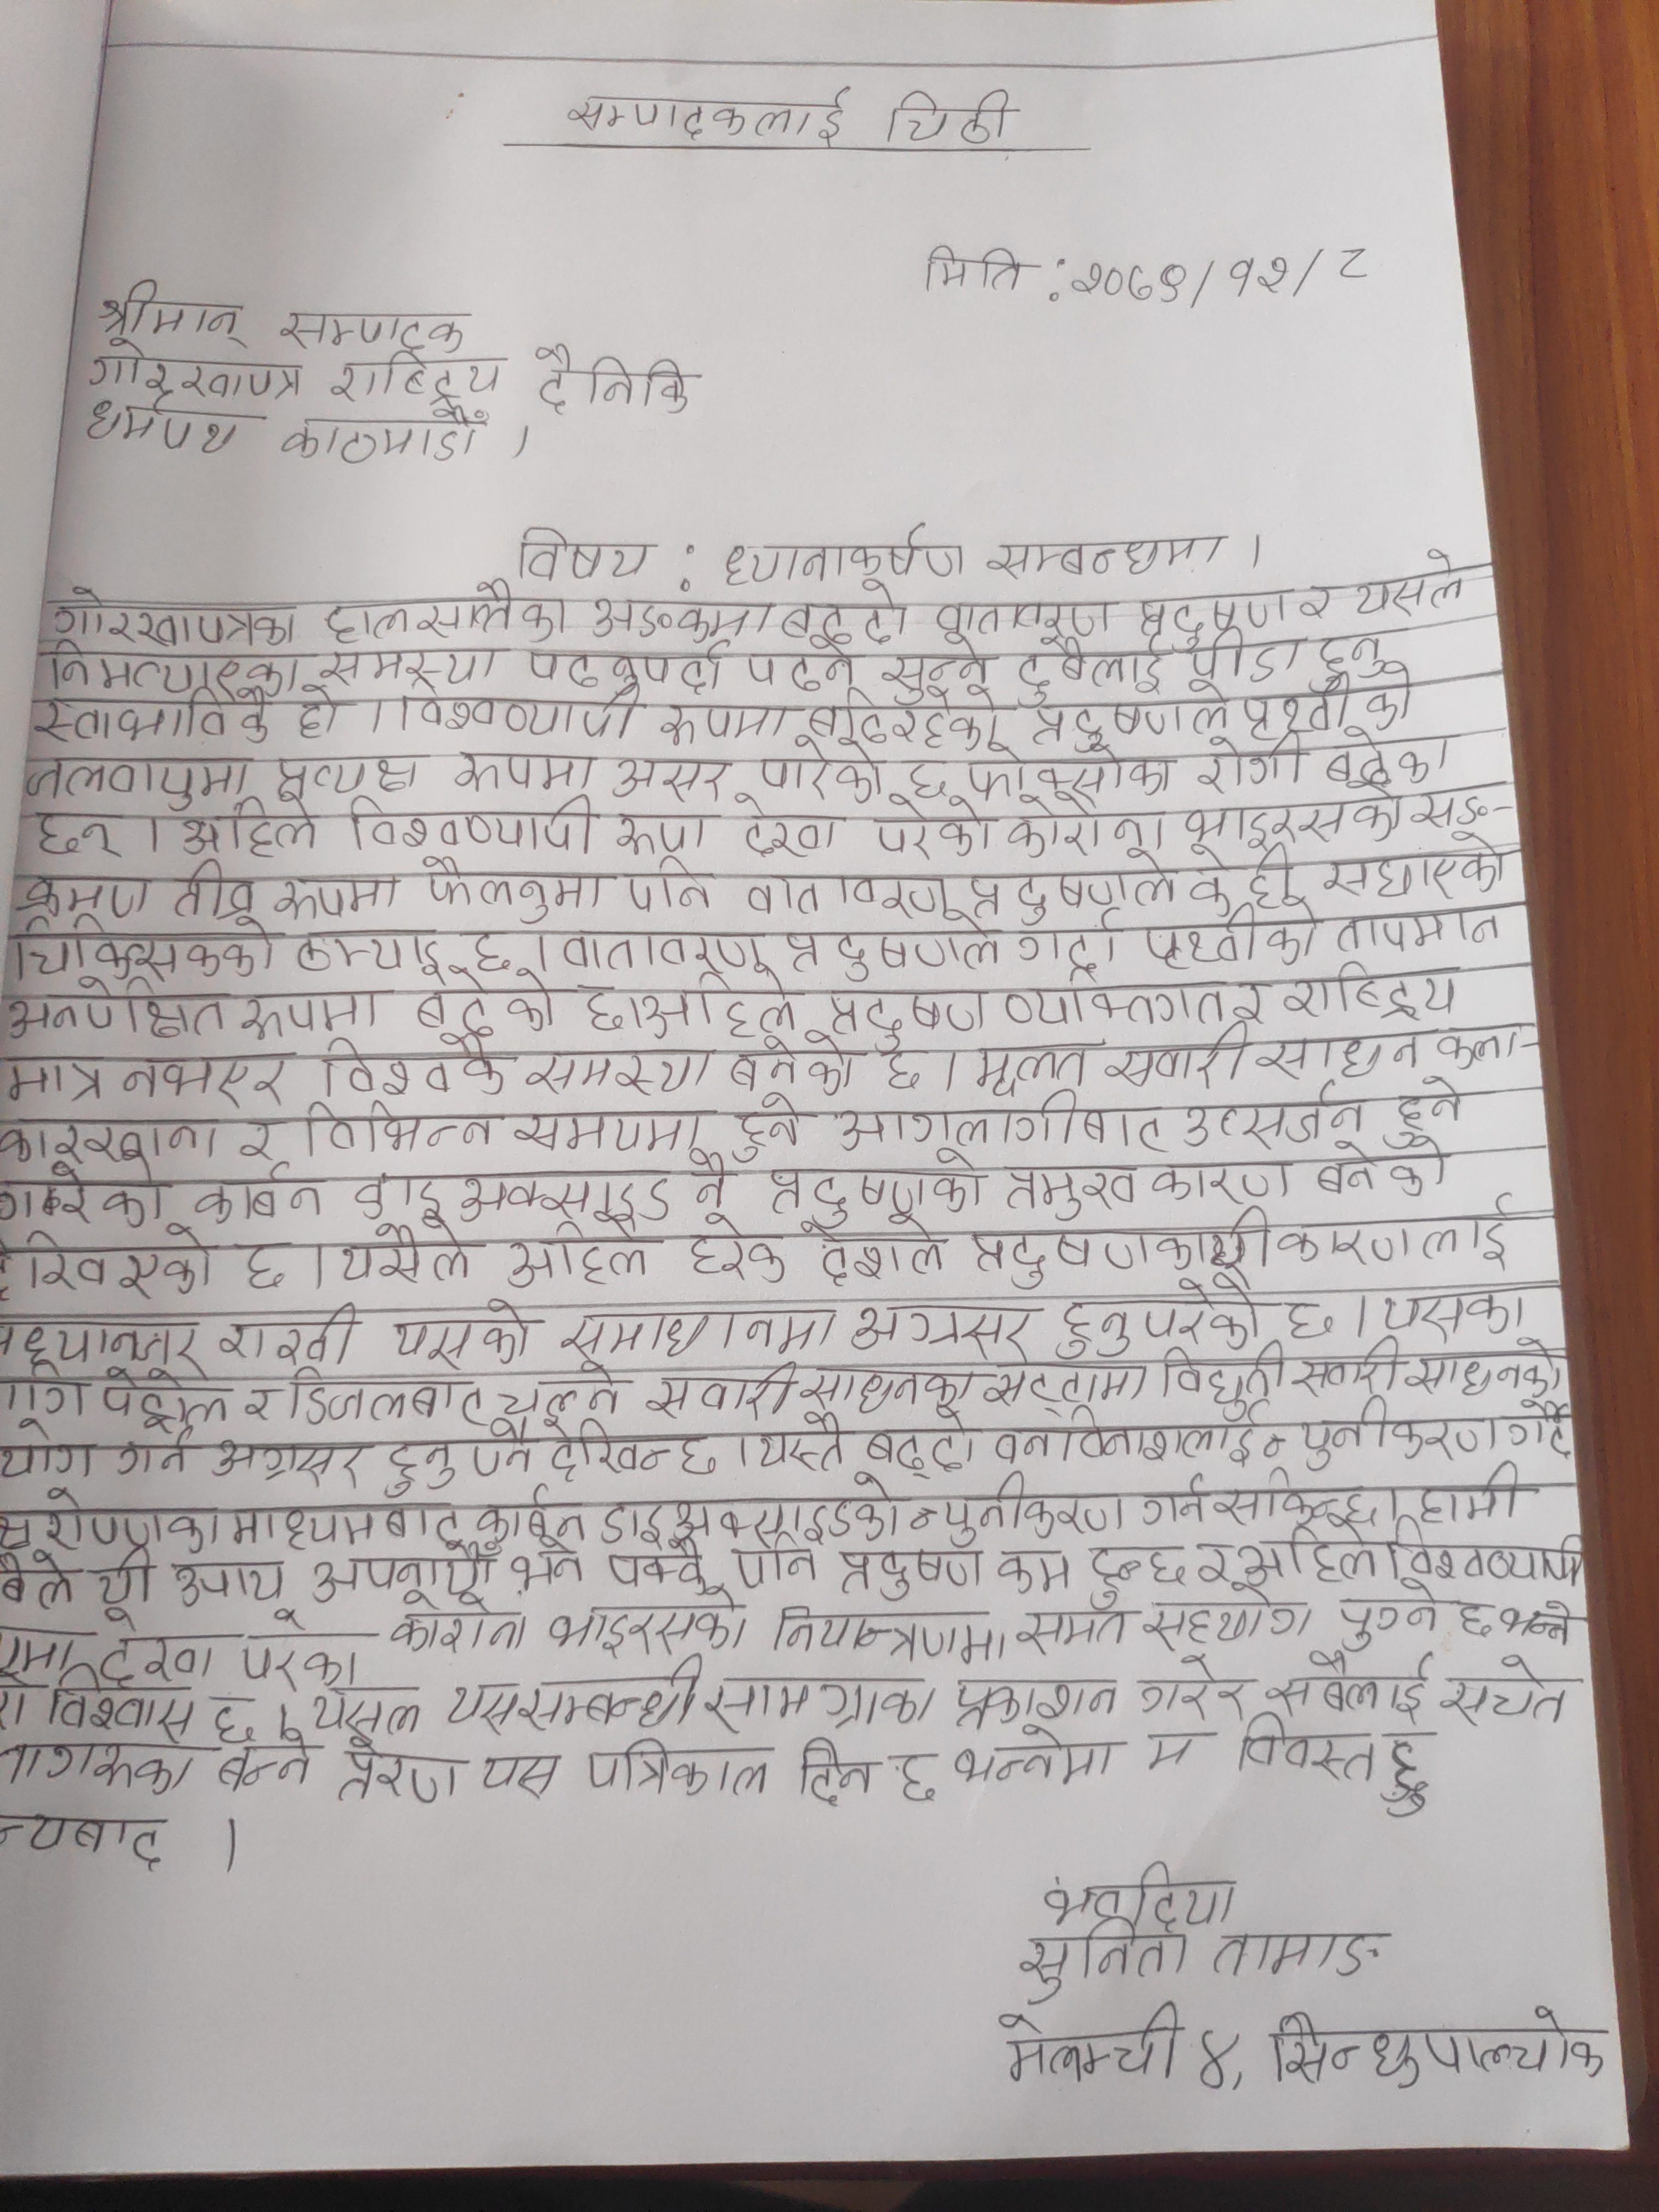text: (1269, 2003, 1612, 2092), (965, 1209, 1277, 1284), (1098, 1021, 1424, 1089), (1274, 1193, 1530, 1275), (448, 1656, 702, 1737), (599, 1475, 904, 1541), (835, 1090, 1164, 1151), (568, 82, 852, 152), (16, 913, 288, 979), (995, 1404, 1267, 1470), (1072, 244, 1373, 301), (769, 1597, 1009, 1669), (1178, 784, 1408, 857), (350, 1169, 678, 1219), (343, 794, 603, 857), (1293, 1393, 1500, 1472), (967, 852, 1183, 927), (906, 1472, 1131, 1543), (723, 521, 965, 587), (558, 1306, 836, 1364), (324, 582, 568, 646), (992, 2005, 1183, 2087), (1054, 1278, 1265, 1352), (52, 585, 301, 646), (765, 1148, 983, 1217), (3, 977, 237, 1042), (16, 1230, 221, 1303), (396, 679, 638, 740), (2, 1489, 223, 1555), (706, 1669, 938, 1731), (1014, 1921, 1190, 2003), (26, 749, 249, 813), (221, 1493, 465, 1550), (317, 1028, 516, 1097), (422, 852, 613, 923), (1002, 970, 1232, 1029), (31, 690, 272, 745), (580, 1737, 777, 1804), (91, 341, 303, 404), (1323, 833, 1518, 900), (1147, 900, 1331, 972), (1042, 1862, 1244, 1926), (45, 641, 301, 691), (528, 343, 704, 416), (298, 1092, 507, 1153), (1183, 1082, 1377, 1146), (288, 1366, 486, 1428), (1140, 1585, 1321, 1653), (0, 1160, 176, 1228), (0, 1808, 176, 1876), (0, 1115, 221, 1169), (985, 531, 1225, 580), (746, 862, 950, 920), (847, 1301, 1033, 1364), (638, 972, 809, 1040), (502, 1216, 660, 1289), (1284, 960, 1469, 1022), (540, 1416, 725, 1479), (519, 641, 732, 695), (781, 928, 1006, 979), (1244, 667, 1420, 732), (802, 1214, 955, 1287), (967, 742, 1175, 796), (545, 1604, 758, 1656), (281, 409, 491, 462), (951, 1726, 1122, 1791), (803, 697, 1006, 751), (1014, 639, 1182, 704), (389, 1299, 547, 1367), (115, 1050, 296, 1109), (1436, 1651, 1575, 1728), (0, 1315, 202, 1367), (1032, 685, 1227, 738), (1237, 1512, 1373, 1588), (207, 1432, 378, 1493), (824, 988, 990, 1050), (99, 1608, 232, 1686), (0, 1743, 204, 1794), (1263, 1658, 1436, 1717), (1234, 1717, 1380, 1787), (298, 921, 450, 988), (1004, 792, 1173, 852), (277, 301, 474, 352), (390, 1588, 537, 1656), (413, 972, 563, 1038), (87, 401, 270, 455), (1391, 1531, 1584, 1581), (1155, 1343, 1288, 1416), (99, 279, 249, 343), (589, 590, 779, 641), (1211, 1928, 1394, 1980), (340, 1217, 479, 1285), (98, 1360, 237, 1428), (523, 1047, 716, 1096), (981, 1355, 1150, 1411), (179, 794, 321, 860), (239, 1613, 369, 1684), (331, 1737, 462, 1808), (305, 1548, 500, 1595), (218, 1308, 368, 1369), (1337, 902, 1509, 954), (514, 1106, 706, 1153), (40, 1683, 199, 1738), (1352, 547, 1473, 620), (951, 1677, 1119, 1730), (1215, 1477, 1387, 1527), (836, 1543, 988, 1601), (728, 1035, 863, 1099), (859, 1407, 983, 1477), (240, 979, 390, 1036), (1314, 1136, 1450, 1198), (1194, 732, 1316, 801), (995, 1160, 1138, 1219), (795, 1364, 974, 1411), (559, 928, 769, 968), (1413, 1336, 1568, 1390), (331, 354, 509, 401), (1384, 1278, 1525, 1338), (512, 524, 660, 580), (688, 1212, 793, 1291), (1129, 590, 1290, 641), (784, 580, 910, 644), (645, 1366, 798, 1418), (450, 744, 598, 798), (1324, 728, 1462, 786), (760, 740, 884, 803), (887, 87, 1021, 145), (314, 646, 505, 686), (1084, 1538, 1194, 1608), (1134, 1656, 1256, 1719), (1185, 841, 1297, 909), (192, 1170, 335, 1223), (1333, 1585, 1439, 1653), (495, 1367, 629, 1420), (171, 1550, 288, 1609), (659, 700, 800, 749), (0, 1414, 92, 1487), (875, 805, 995, 860), (1415, 1468, 1535, 1524), (1018, 907, 1124, 970), (934, 601, 1115, 637), (272, 869, 403, 920), (880, 636, 988, 697), (1148, 1162, 1298, 1205), (0, 1050, 110, 1109), (1014, 1601, 1134, 1655), (17, 871, 155, 918), (1291, 1341, 1405, 1397), (474, 1489, 591, 1543), (971, 1042, 1091, 1094), (795, 1737, 880, 1810), (305, 1684, 423, 1737), (612, 756, 737, 805), (601, 1538, 711, 1594), (1187, 629, 1304, 679), (756, 1413, 852, 1474), (268, 756, 420, 794), (924, 244, 1030, 298), (730, 1092, 810, 1162), (220, 1733, 317, 1789), (167, 859, 256, 920), (376, 1433, 460, 1498), (728, 1536, 824, 1592), (739, 813, 852, 860), (627, 855, 716, 914), (687, 1150, 765, 1216), (744, 644, 857, 690), (613, 810, 721, 857), (1134, 1468, 1211, 1534), (1385, 1728, 1441, 1818), (0, 1552, 80, 1615), (30, 810, 127, 860), (1506, 1397, 1570, 1468), (1394, 1082, 1488, 1130), (1413, 787, 1513, 833), (1434, 1019, 1523, 1069), (993, 1545, 1080, 1595), (1499, 1597, 1582, 1649), (474, 1749, 563, 1797), (512, 1538, 591, 1592), (112, 1428, 193, 1477), (94, 1547, 159, 1608), (1141, 1724, 1209, 1778), (1310, 637, 1385, 685), (476, 1423, 535, 1480), (889, 1747, 945, 1808), (293, 683, 345, 747), (1190, 2027, 1241, 2094), (209, 1691, 265, 1747), (570, 981, 629, 1033), (232, 1240, 291, 1292), (460, 923, 514, 974), (1448, 1594, 1499, 1648), (878, 1045, 931, 1096), (1229, 975, 1274, 1028), (1283, 1294, 1335, 1339), (239, 1113, 282, 1165), (1195, 1538, 1234, 1592), (1298, 580, 1340, 624), (906, 756, 946, 799), (240, 1385, 281, 1426)
